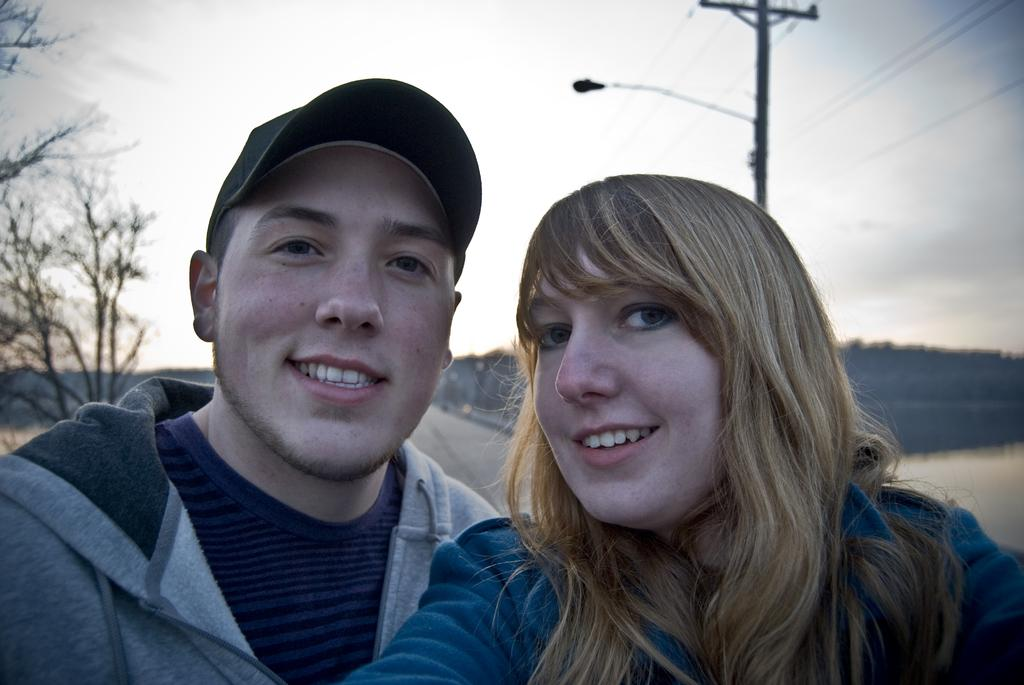Hat: (207, 74, 484, 286)
